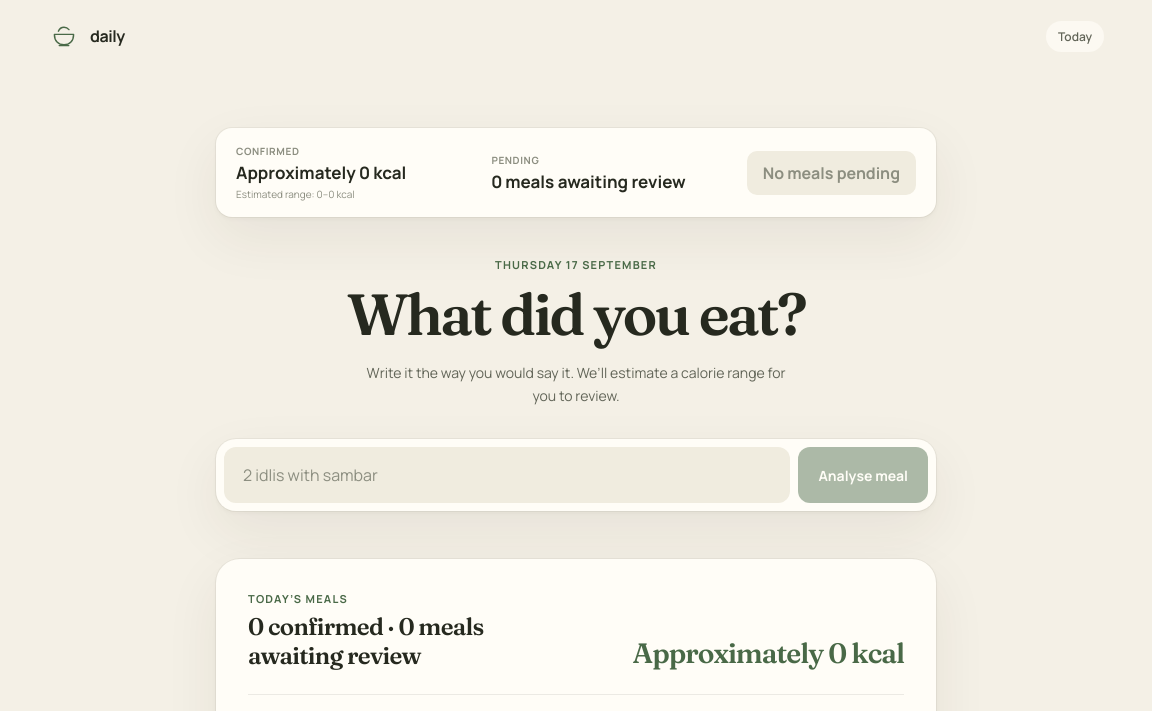
Test: Daily Meal Log V2 P0 › persists failed analysis with the explicit failed status
Type "Agrim" into the field named "What did you eat?" at (507, 475), box x1=224 y1=447 x2=790 y2=503
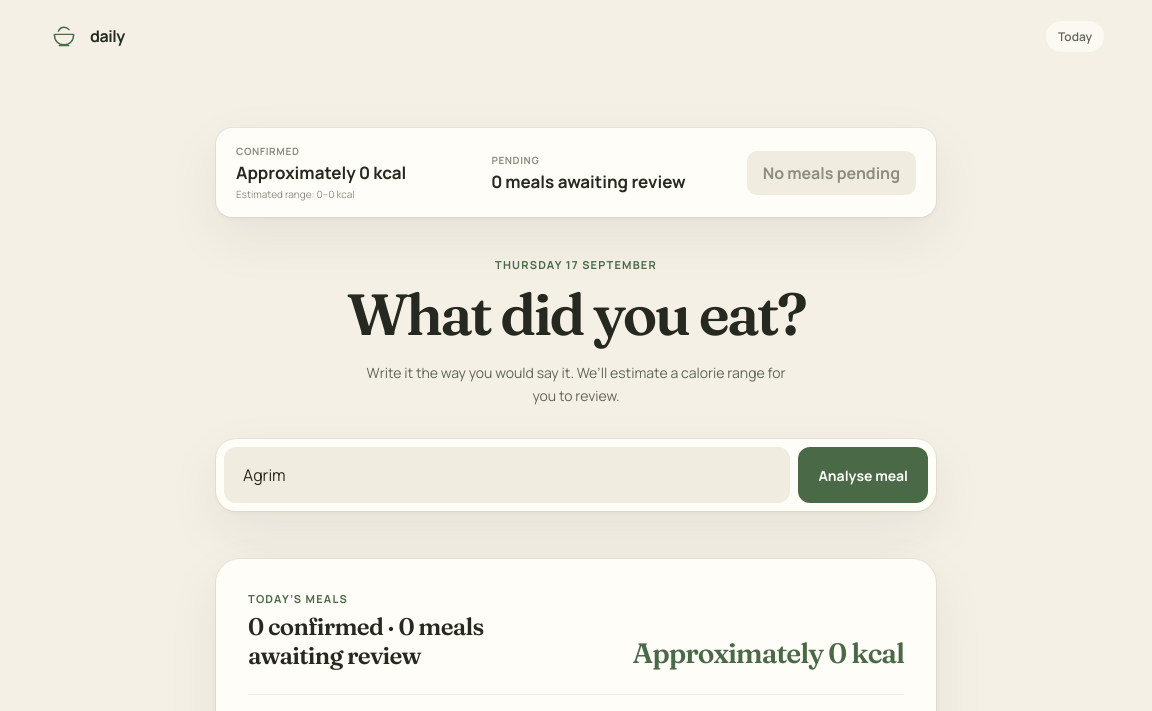
Click the button "Analyse meal" at (863, 475), box x1=798 y1=447 x2=928 y2=503
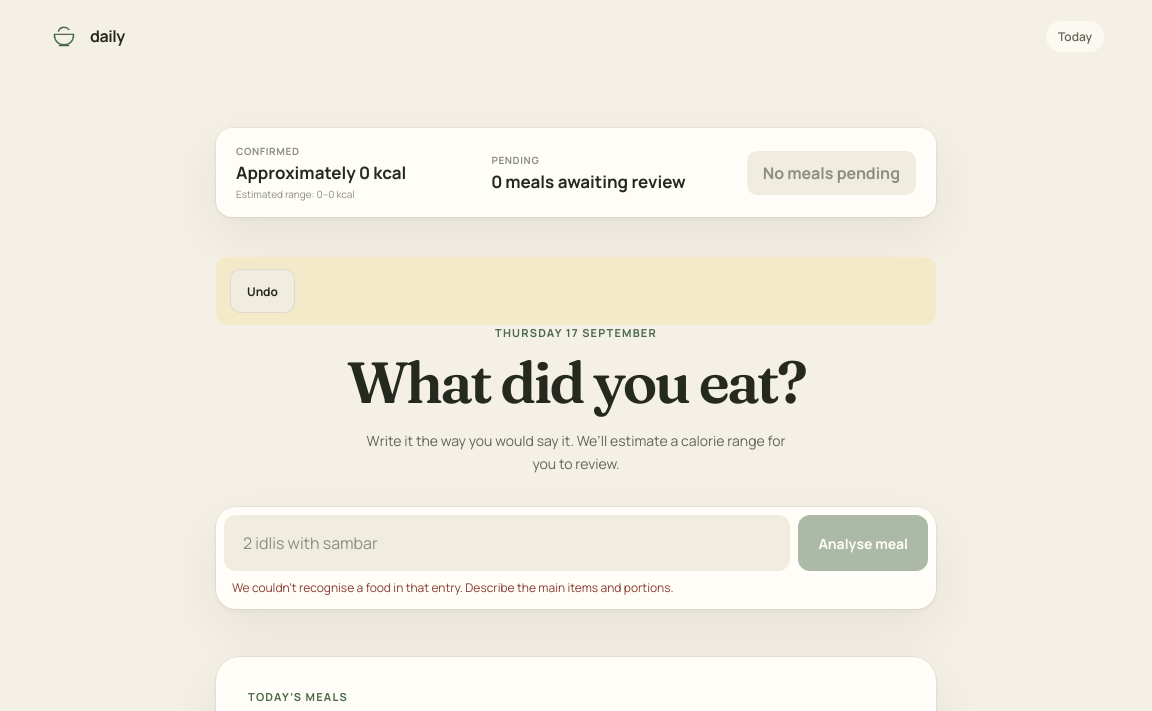
Now the message shows "couldn’t recognise", box x1=232 y1=579 x2=674 y2=596
